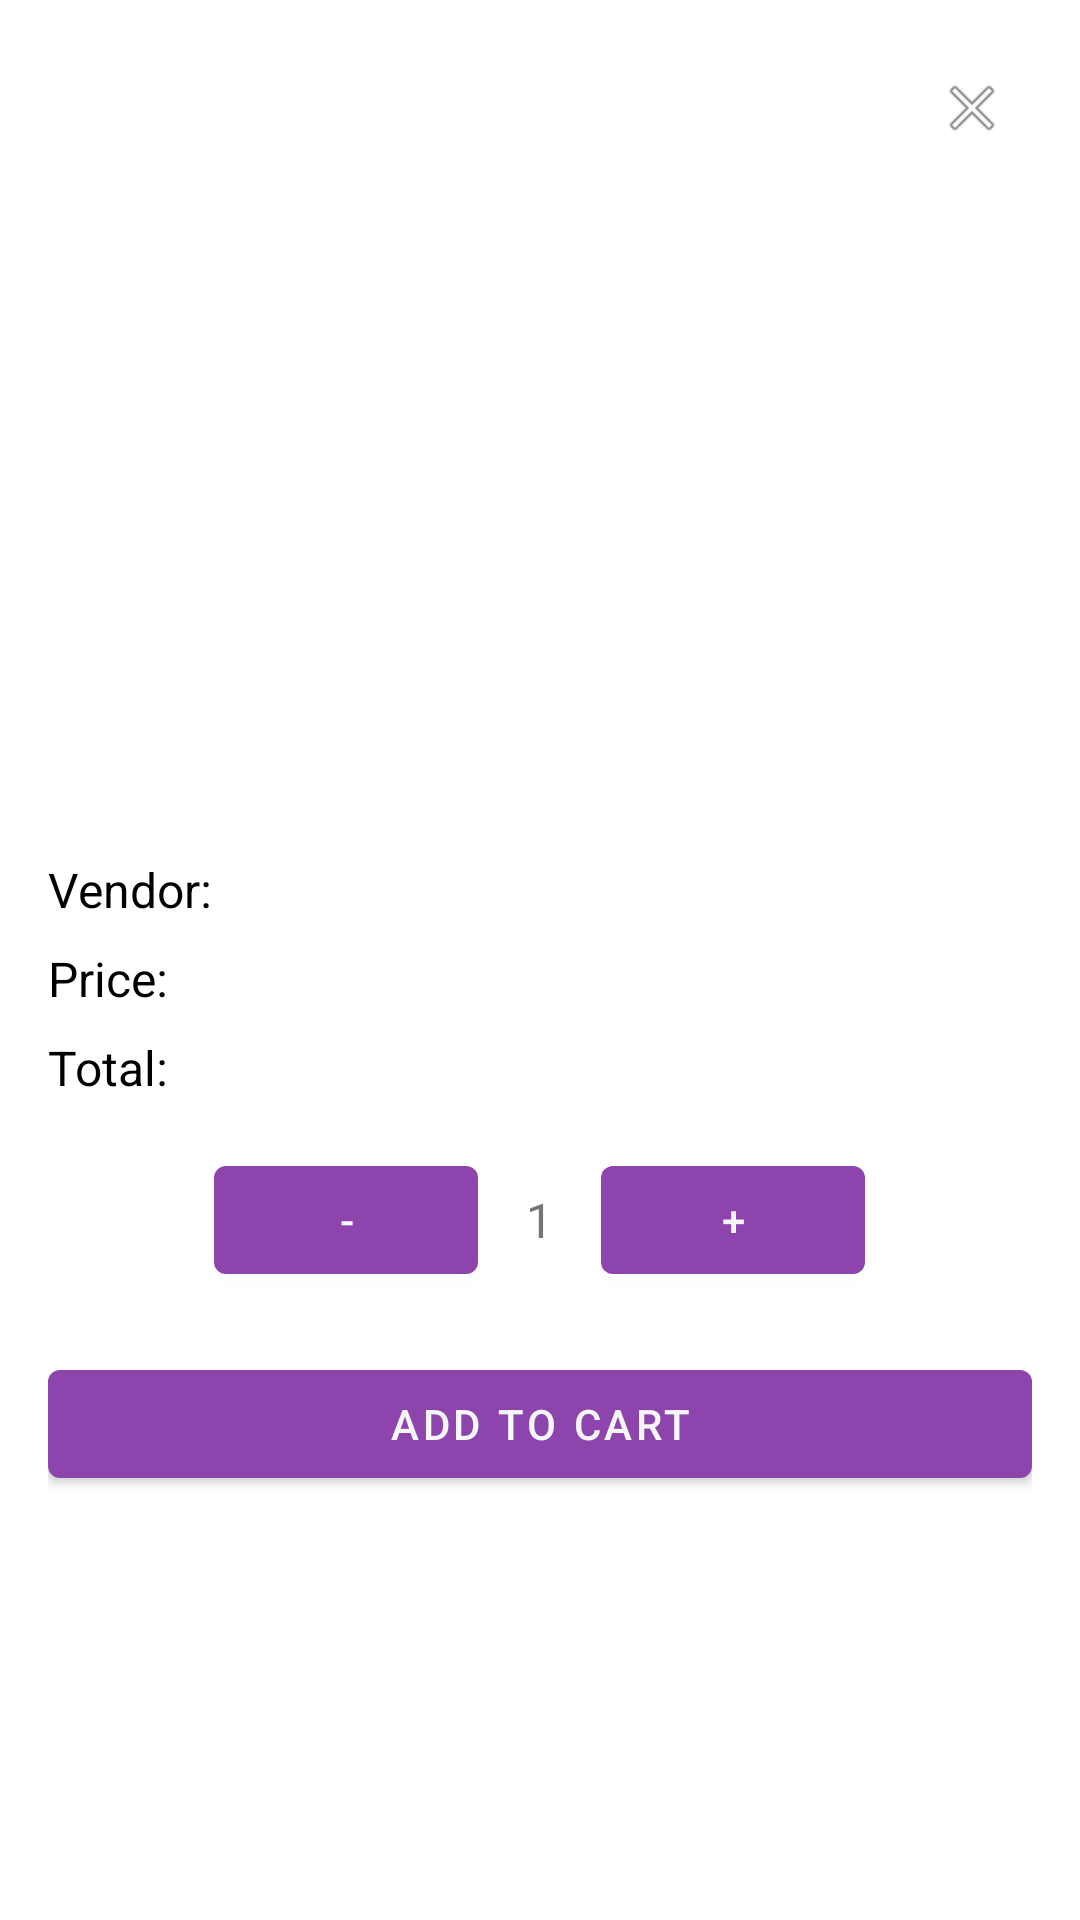

Screen size 1080px x 1920px. Icon name, then its box in pixels as (x1, y1, x2, y2):
close clear cancel: (949, 85, 995, 131)
